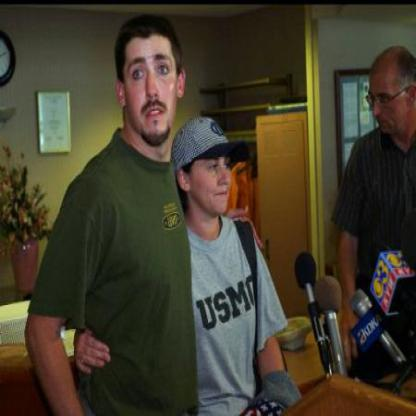face: (124, 20, 178, 147), (189, 118, 238, 221), (368, 58, 409, 138)
